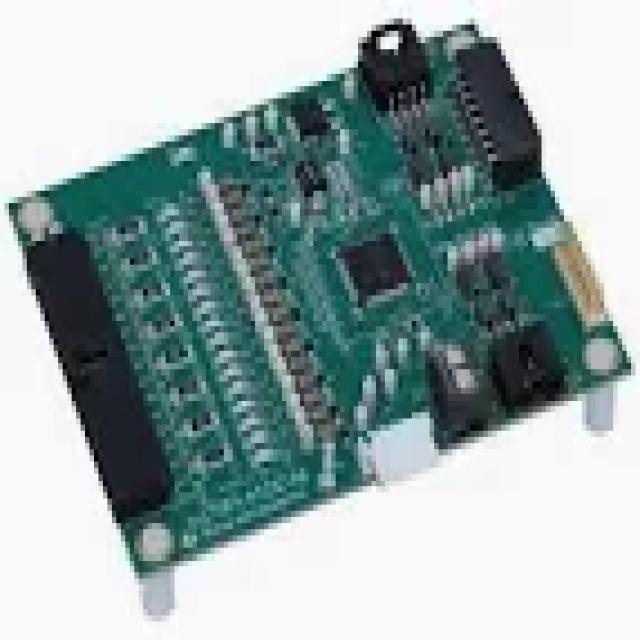pcb: (5, 12, 631, 616), (331, 228, 412, 308)
